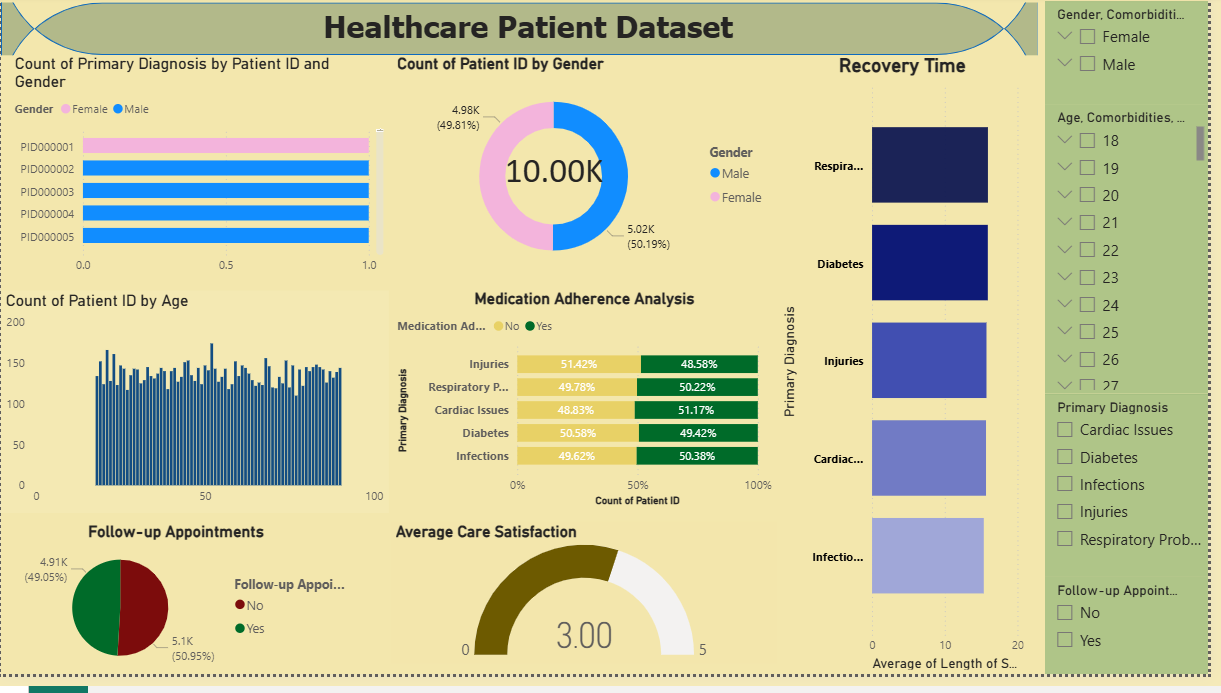

The page's visual inventory and layout, read from the dashboard file:
{"tool":"powerbi","page":{"name":"Page 1","canvas":[1280,720],"ordinal":0},"visuals":[{"type":"barChart","fields":{"Y":["CountNonNull(Health_care_patient_Dataset.Primary Diagnosis)"],"Series":["Health_care_patient_Dataset.Gender"],"Category":["Health_care_patient_Dataset.Patient ID"]},"box":[9.9,61.6,401.1,242.2],"z":0},{"type":"columnChart","fields":{"Category":["Health_care_patient_Dataset.Age"],"Y":["CountNonNull(Health_care_patient_Dataset.Patient ID)"]},"box":[0,313.7,411,236.3],"z":1000},{"type":"donutChart","fields":{"Y":["CountNonNull(Health_care_patient_Dataset.Patient ID)"],"Category":["Health_care_patient_Dataset.Gender"]},"box":[415,61.6,407,240.3],"z":2000},{"type":"card","fields":{"Values":["CountNonNull(Health_care_patient_Dataset.Patient ID)"]},"box":[497.9,140,176.6,87.5],"z":3000},{"type":"clusteredBarChart","title":"Recovery Time","fields":{"Category":["Health_care_patient_Dataset.Primary Diagnosis"],"Y":["Avg(Health_care_patient_Dataset.Length of Stay (LOS))"]},"box":[822.3,62,267.2,658.5],"z":4000},{"type":"slicer","fields":{"Values":["Health_care_patient_Dataset.Age","Health_care_patient_Dataset.Comorbidities","Health_care_patient_Dataset.Gender"]},"box":[1107.1,116.1,173.4,307],"z":5000},{"type":"pieChart","title":"Follow-up Appointments ","fields":{"Category":["Health_care_patient_Dataset.Follow-up Appointment"],"Y":["CountNonNull(Health_care_patient_Dataset.Patient ID)"]},"box":[0,557.9,371.3,162.8],"z":6000},{"type":"hundredPercentStackedBarChart","title":"Medication Adherence Analysis","fields":{"Series":["Health_care_patient_Dataset.Medication Adherence"],"Category":["Health_care_patient_Dataset.Primary Diagnosis"],"Y":["CountNonNull(Health_care_patient_Dataset.Patient ID)"]},"box":[415,311.7,407,234.3],"z":7000},{"type":"slicer","fields":{"Values":["Health_care_patient_Dataset.Gender","Health_care_patient_Dataset.Comorbidities"]},"box":[1107.1,6.4,173.4,109.8],"z":8000},{"type":"gauge","title":"Average Care Satisfaction","fields":{"Y":["Avg(Health_care_patient_Dataset.Care Satisfaction)"],"MinValue":["Health_care_patient_Dataset.MinValue"],"MaxValue":["Health_care_patient_Dataset.MaxValue"],"TargetValue":["Health_care_patient_Dataset.TargetValue"]},"box":[413,557.9,409,150.9],"z":9000},{"type":"slicer","fields":{"Values":["Health_care_patient_Dataset.Primary Diagnosis"]},"box":[1106.6,423.1,173.4,194.1],"z":10000},{"type":"slicer","fields":{"Values":["Health_care_patient_Dataset.Follow-up Appointment"]},"box":[1107.1,617.2,173.4,103.4],"z":11000},{"type":"shape","box":[0,8,1099.1,55.7],"z":12000},{"type":"textbox","box":[92.3,8,933.7,54.1],"z":13000}]}

Visuals, with their boxes in screenshot pixels (x1, y1, x2, y2), scaled from the page's 1280x720 canvas onto the 1221x693 screenshot:
barChart - CountNonNull(Health_care_patient_Dataset.Primary Diagnosis) x Health_care_patient_Dataset.Gender: {"x1": 9, "y1": 59, "x2": 392, "y2": 292}
columnChart - Health_care_patient_Dataset.Age x CountNonNull(Health_care_patient_Dataset.Patient ID): {"x1": 0, "y1": 302, "x2": 392, "y2": 529}
donutChart - CountNonNull(Health_care_patient_Dataset.Patient ID) x Health_care_patient_Dataset.Gender: {"x1": 396, "y1": 59, "x2": 784, "y2": 291}
card - CountNonNull(Health_care_patient_Dataset.Patient ID): {"x1": 475, "y1": 135, "x2": 643, "y2": 219}
"Recovery Time" clusteredBarChart: {"x1": 784, "y1": 60, "x2": 1039, "y2": 692}
slicer - Health_care_patient_Dataset.Age x Health_care_patient_Dataset.Comorbidities: {"x1": 1056, "y1": 112, "x2": 1220, "y2": 407}
"Follow-up Appointments " pieChart: {"x1": 0, "y1": 537, "x2": 354, "y2": 692}
"Medication Adherence Analysis" hundredPercentStackedBarChart: {"x1": 396, "y1": 300, "x2": 784, "y2": 526}
slicer - Health_care_patient_Dataset.Gender x Health_care_patient_Dataset.Comorbidities: {"x1": 1056, "y1": 6, "x2": 1220, "y2": 112}
"Average Care Satisfaction" gauge: {"x1": 394, "y1": 537, "x2": 784, "y2": 682}
slicer - Health_care_patient_Dataset.Primary Diagnosis: {"x1": 1056, "y1": 407, "x2": 1220, "y2": 594}
slicer - Health_care_patient_Dataset.Follow-up Appointment: {"x1": 1056, "y1": 594, "x2": 1220, "y2": 692}
shape: {"x1": 0, "y1": 8, "x2": 1048, "y2": 61}
textbox: {"x1": 88, "y1": 8, "x2": 979, "y2": 60}
